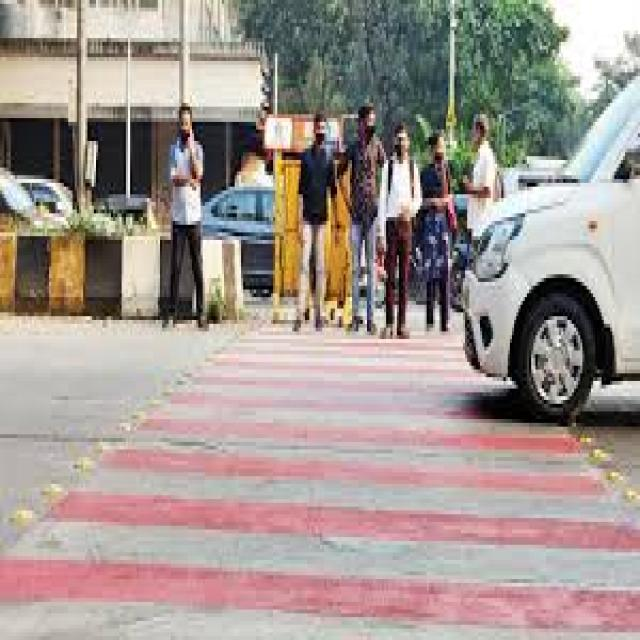car ahead at: (471, 75, 640, 395)
person ahead at: (166, 93, 207, 334)
zebra crossing ahead at: (0, 314, 640, 636)
